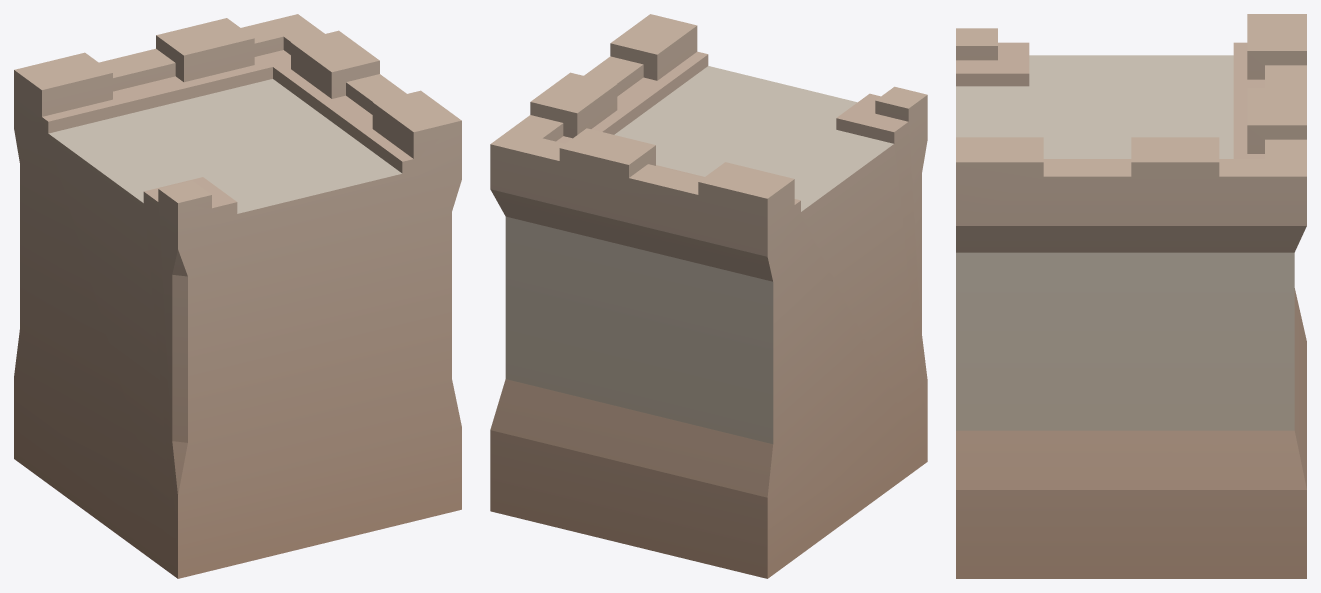
Rendered from wall-corner.glb.
3 renders of one model, left to right at view 1: azimuth 30°, elevation 25°; view 2: azimuth 150°, elevation 25°; view 3: azimuth 270°, elevation 25°, orthographic. The views are drawn at different scales.
Visible parts, largest first — view 1: wall-corner; view 2: wall-corner; view 3: wall-corner.
Part boxes in pixels (x1,y1,x2,y2): wall-corner: (14,14,461,578); wall-corner: (490,14,927,578); wall-corner: (956,14,1306,578).
Bounding box in the file's own units: 1 × 1.31 × 1.
